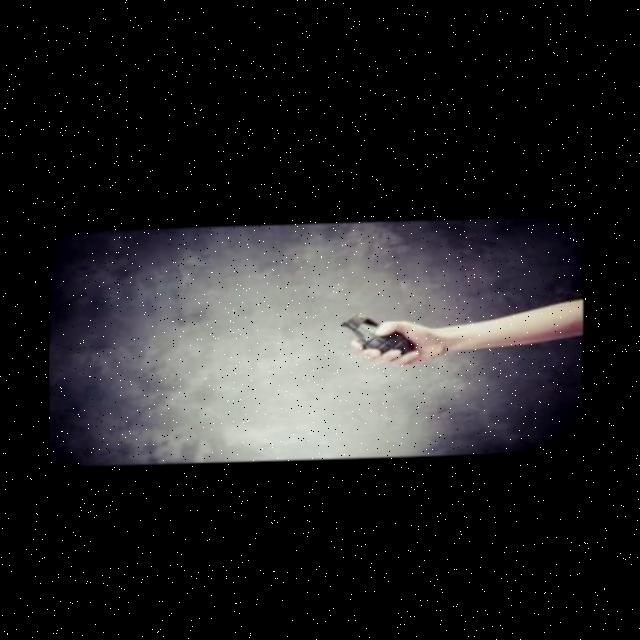grenade: (333, 300, 428, 360)
